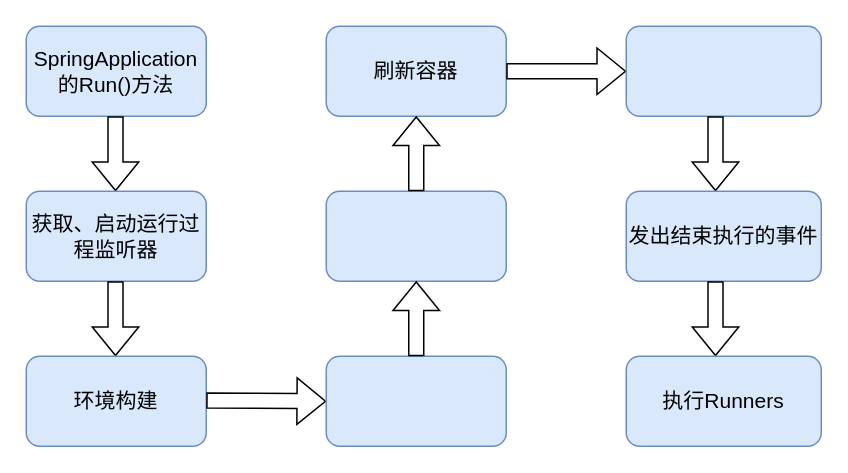
This 848x473 diagram has some shape labels left out. Each missing label, with the centre of its shape:
"IOC容器前置处理" goes at point (415, 235).
"IOC容器的后置处理" goes at point (723, 70).
"创建IOC容器" goes at point (415, 400).
